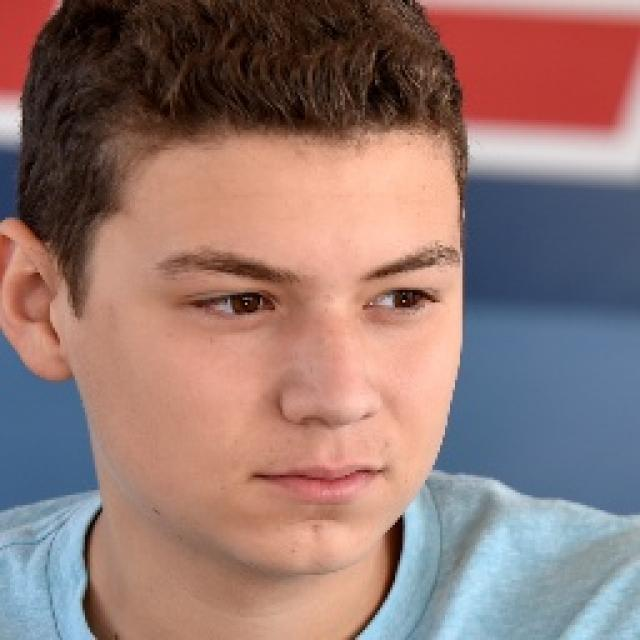earlobe: (0, 219, 73, 385)
